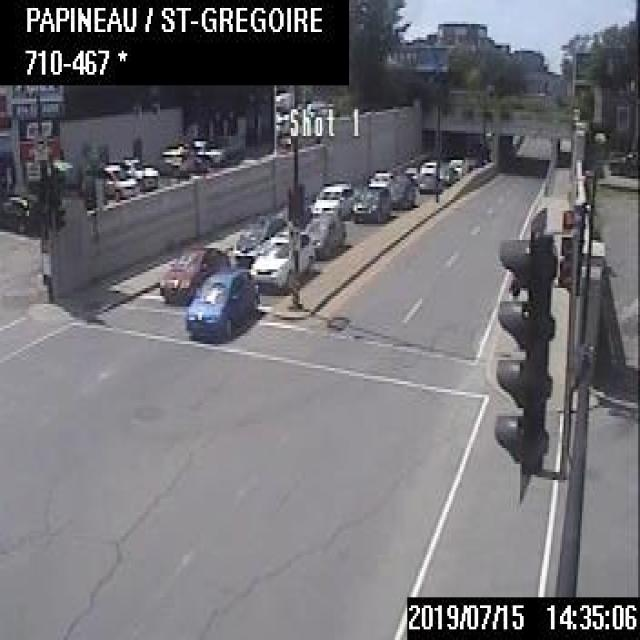vehicle: (185, 263, 260, 339), (158, 242, 228, 304), (249, 230, 313, 296), (234, 212, 284, 260), (300, 207, 345, 259), (309, 178, 357, 220), (0, 189, 40, 235), (349, 183, 394, 222), (93, 161, 136, 196), (386, 168, 414, 208), (128, 154, 157, 192), (414, 170, 442, 193), (364, 170, 391, 187), (418, 158, 436, 172)
